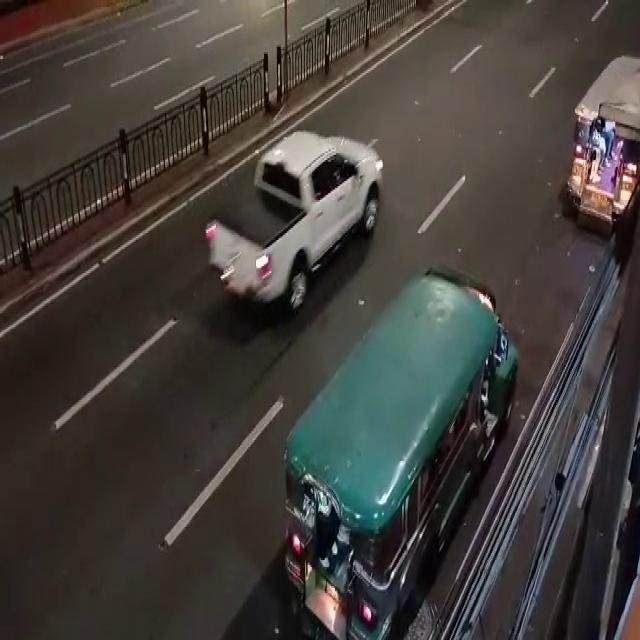car: (226, 146, 377, 321)
jeepney: (271, 254, 525, 638), (562, 56, 639, 222)
